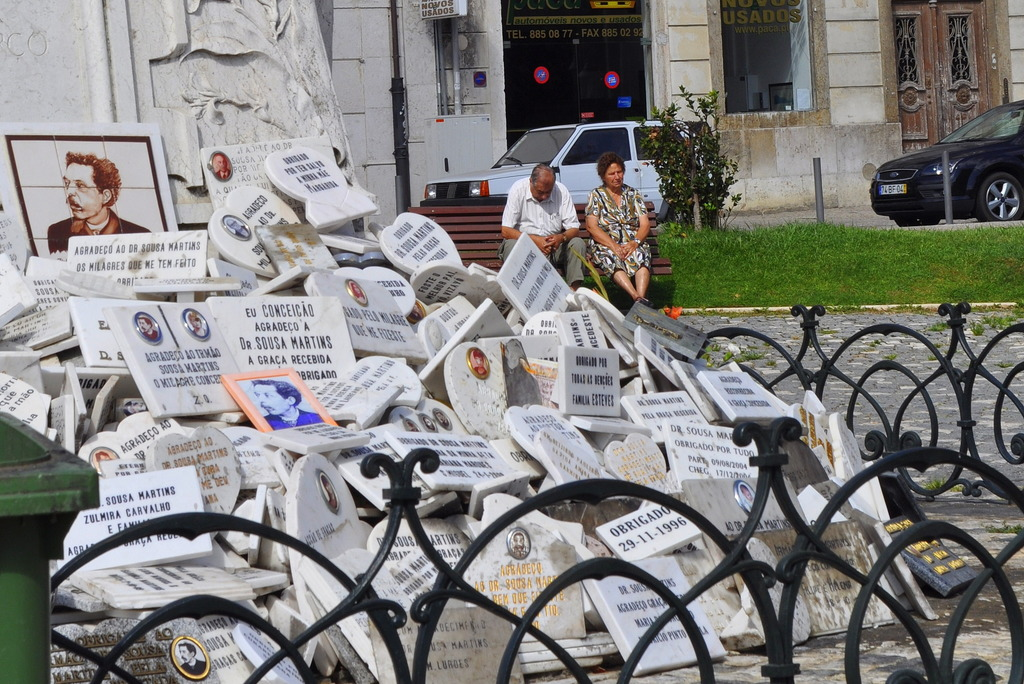car: (416, 98, 729, 227), (861, 79, 1024, 244)
